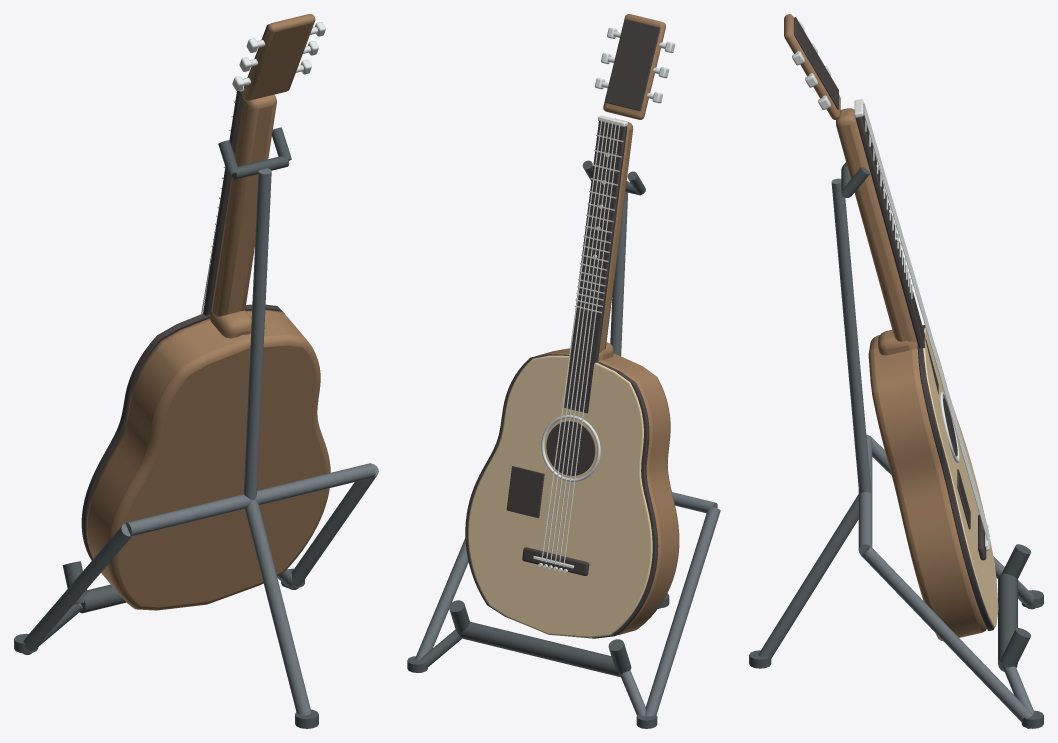
The model's file is guitar.glb.
3 renders of one model, left to right at view 1: azimuth 30°, elevation 25°; view 2: azimuth 150°, elevation 25°; view 3: azimuth 270°, elevation 25°, orthographic. The views are drawn at different scales.
Visible parts, largest first — view 1: guitar_back_walnut, stand_graphite, neck_walnut, headstock_walnut, guitar_binding_ebony, fretboard_ebony, stand_yoke_black_rubber, stand_cradle_black_rubber, tuners_satin_steel, neck_heel_walnut, stand_feet_black_rubber; view 2: guitar_top_spruce, stand_graphite, fretboard_ebony, guitar_back_walnut, strings_satin_steel, stand_cradle_black_rubber, headstock_face_ebony, guitar_binding_ebony, sound_hole_ebony, pickguard_ebony, neck_walnut, headstock_walnut (+5 smaller); view 3: guitar_back_walnut, stand_graphite, neck_walnut, guitar_top_spruce, stand_cradle_black_rubber, fretboard_ebony, strings_satin_steel, guitar_binding_ebony, headstock_face_ebony, headstock_walnut, stand_feet_black_rubber, neck_heel_walnut (+2 smaller).
Boxes of the visible parts, <box> form: guitar_back_walnut: <box>86,309,330,610</box>; stand_graphite: <box>23,168,378,715</box>; neck_walnut: <box>211,95,276,316</box>; headstock_walnut: <box>242,14,315,100</box>; guitar_binding_ebony: <box>81,304,285,560</box>; fretboard_ebony: <box>203,90,243,315</box>; stand_yoke_black_rubber: <box>218,127,291,179</box>; stand_cradle_black_rubber: <box>62,561,126,613</box>; tuners_satin_steel: <box>232,22,325,90</box>; neck_heel_walnut: <box>209,310,251,338</box>; stand_feet_black_rubber: <box>14,568,318,728</box>; guitar_top_spruce: <box>468,355,652,637</box>; stand_graphite: <box>415,180,720,716</box>; fretboard_ebony: <box>564,121,627,413</box>; guitar_back_walnut: <box>535,348,679,635</box>; strings_satin_steel: <box>541,120,619,566</box>; stand_cradle_black_rubber: <box>449,600,631,677</box>; headstock_face_ebony: <box>604,19,660,110</box>; guitar_binding_ebony: <box>465,354,658,638</box>; sound_hole_ebony: <box>546,421,595,475</box>; pickguard_ebony: <box>506,466,544,517</box>; neck_walnut: <box>599,118,633,353</box>; headstock_walnut: <box>603,14,665,119</box>; guitar_back_walnut: <box>868,335,986,640</box>; stand_graphite: <box>758,178,1034,728</box>; neck_walnut: <box>836,108,917,345</box>; guitar_top_spruce: <box>923,327,998,627</box>; stand_cradle_black_rubber: <box>998,544,1031,671</box>; fretboard_ebony: <box>855,114,938,394</box>; strings_satin_steel: <box>863,103,988,542</box>; guitar_binding_ebony: <box>917,325,995,630</box>; headstock_face_ebony: <box>794,17,838,109</box>; headstock_walnut: <box>784,14,840,119</box>; stand_feet_black_rubber: <box>749,590,1043,728</box>; neck_heel_walnut: <box>878,330,917,355</box>.
Size of the model in its own units: 0.496 by 1.15 by 0.476.
